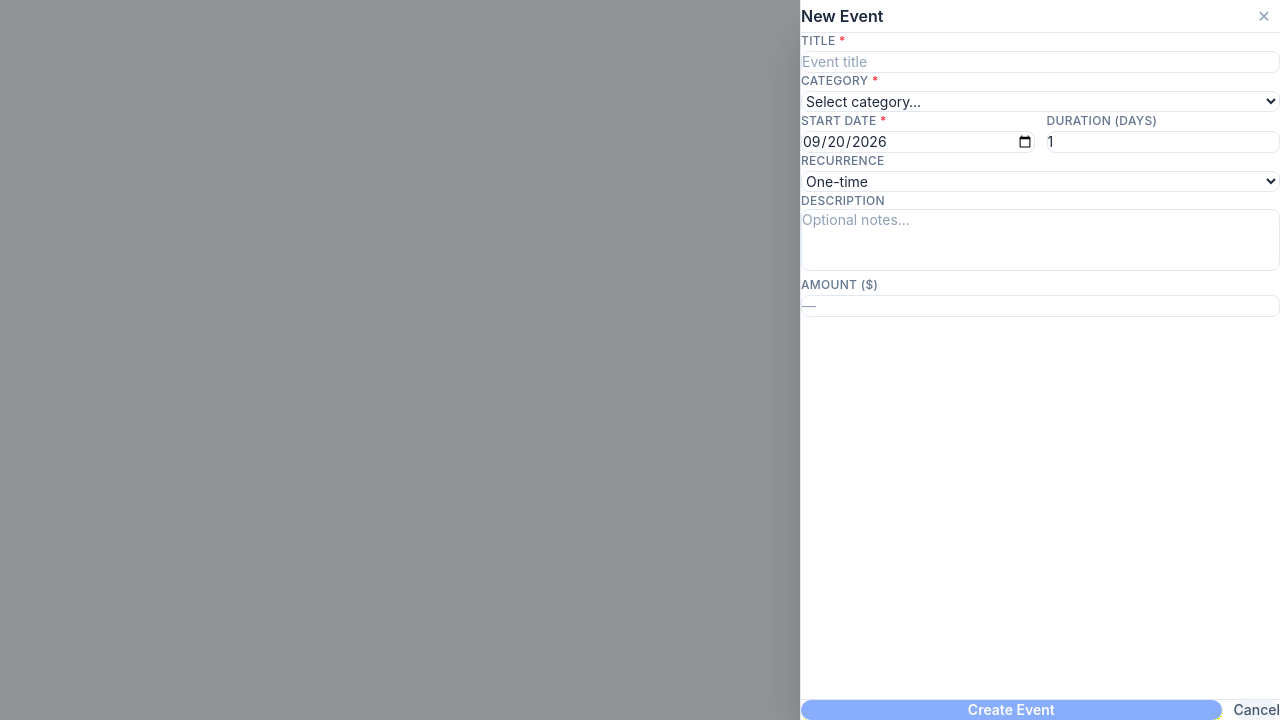
Test: EventPanel — validation › shows error when saving without selecting a category
In the field with placeholder "Event title": (1040, 62) [801,51,1279,73], type "Test"
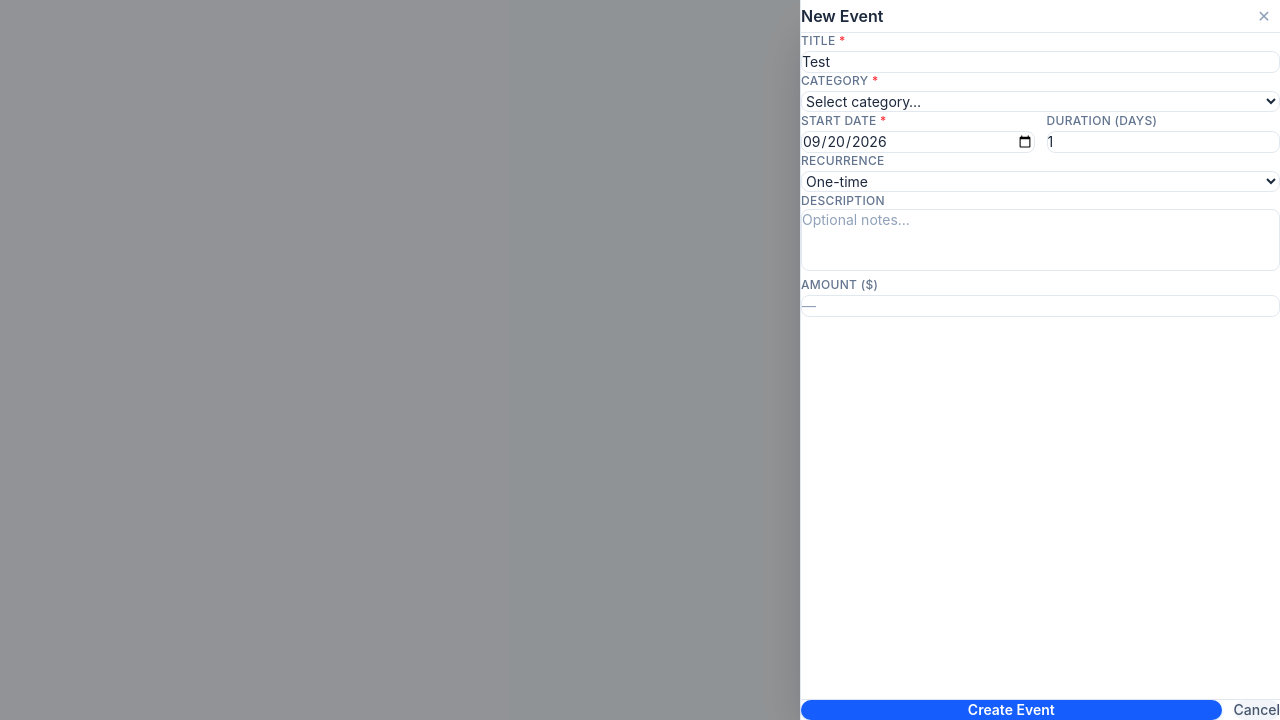
Click the button "Create Event": click(1011, 710) [801,700,1222,719]
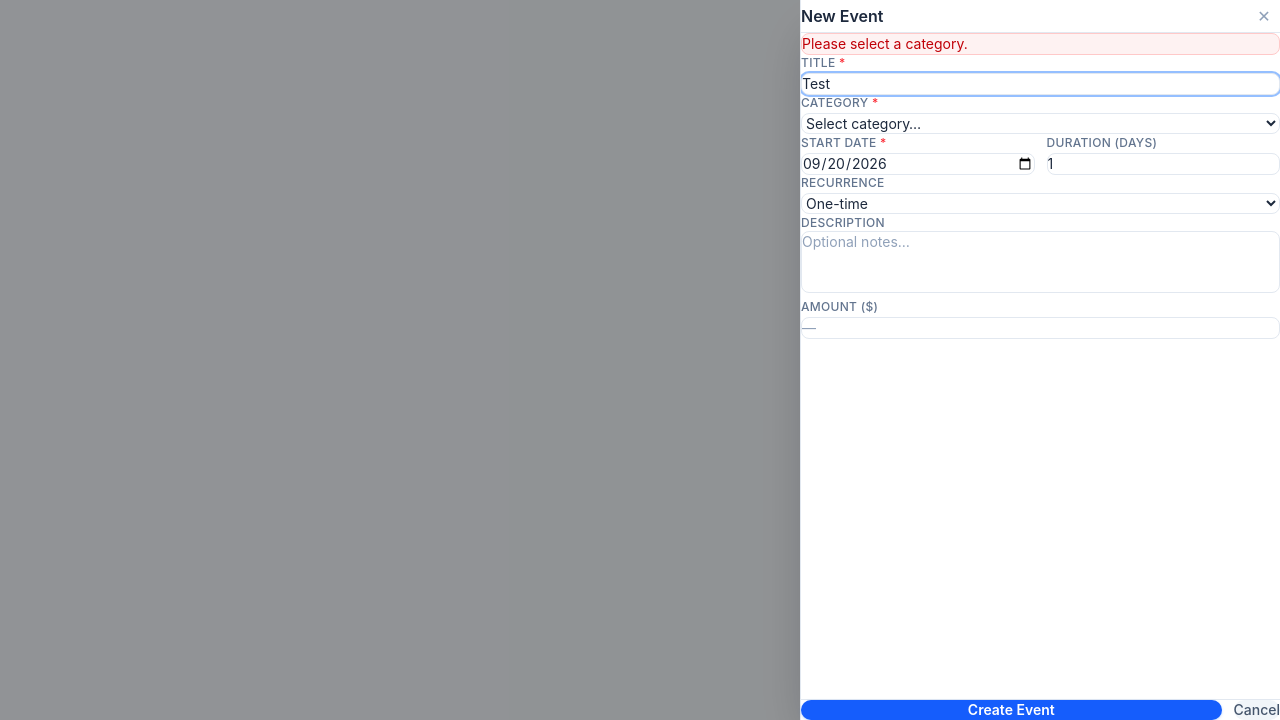
Expected: the text "Please select a category." is shown, [801,33,1279,55]
